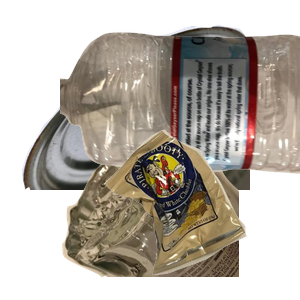glass: (60, 120, 300, 300)
metal: (19, 22, 259, 202)
plastic: (60, 30, 300, 196)
trash: (101, 127, 300, 300)
